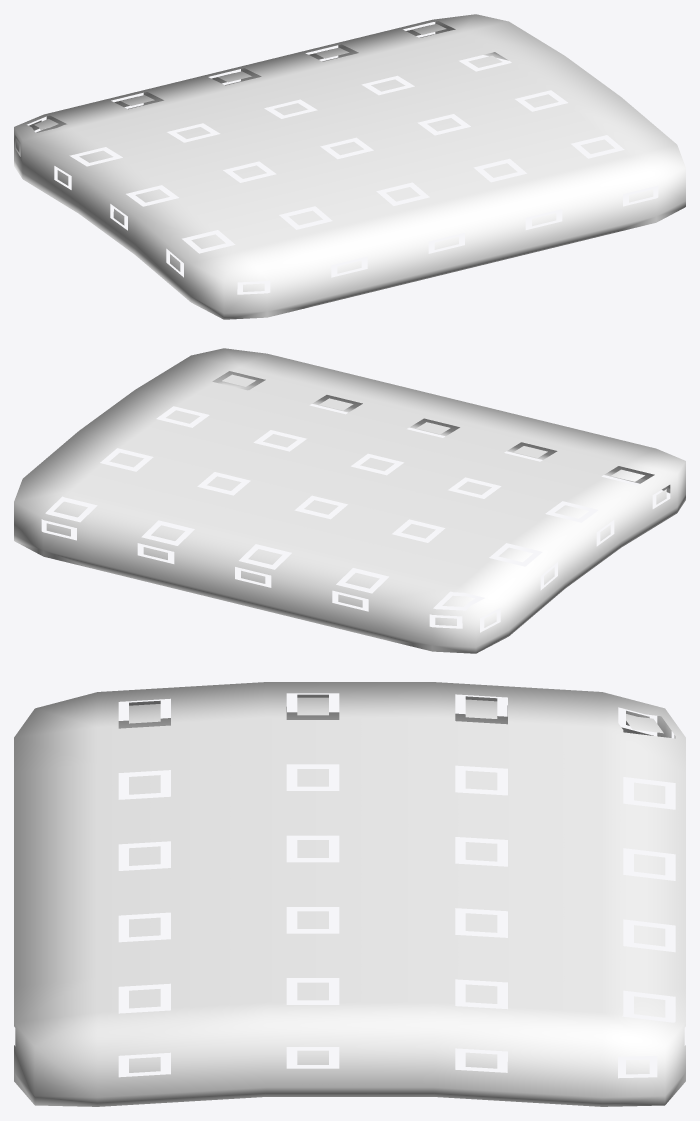
The model's file is fobj_base_S.dae.
3 renders of one model, top to bottom at view 1: azimuth 30°, elevation 25°; view 2: azimuth 150°, elevation 25°; view 3: azimuth 270°, elevation 25°, orthographic. The views are drawn at different scales.
Parts seen in each view (by area): view 1: fobj_base_S; view 2: fobj_base_S; view 3: fobj_base_S.
Part boxes in pixels (x1,y1,x2,y2): fobj_base_S: (14, 14, 685, 319); fobj_base_S: (14, 348, 685, 653); fobj_base_S: (14, 682, 685, 1106).
Size of the model in its own units: 160 by 16.49 by 128.
Materials: 3 (3 with a texture image).
